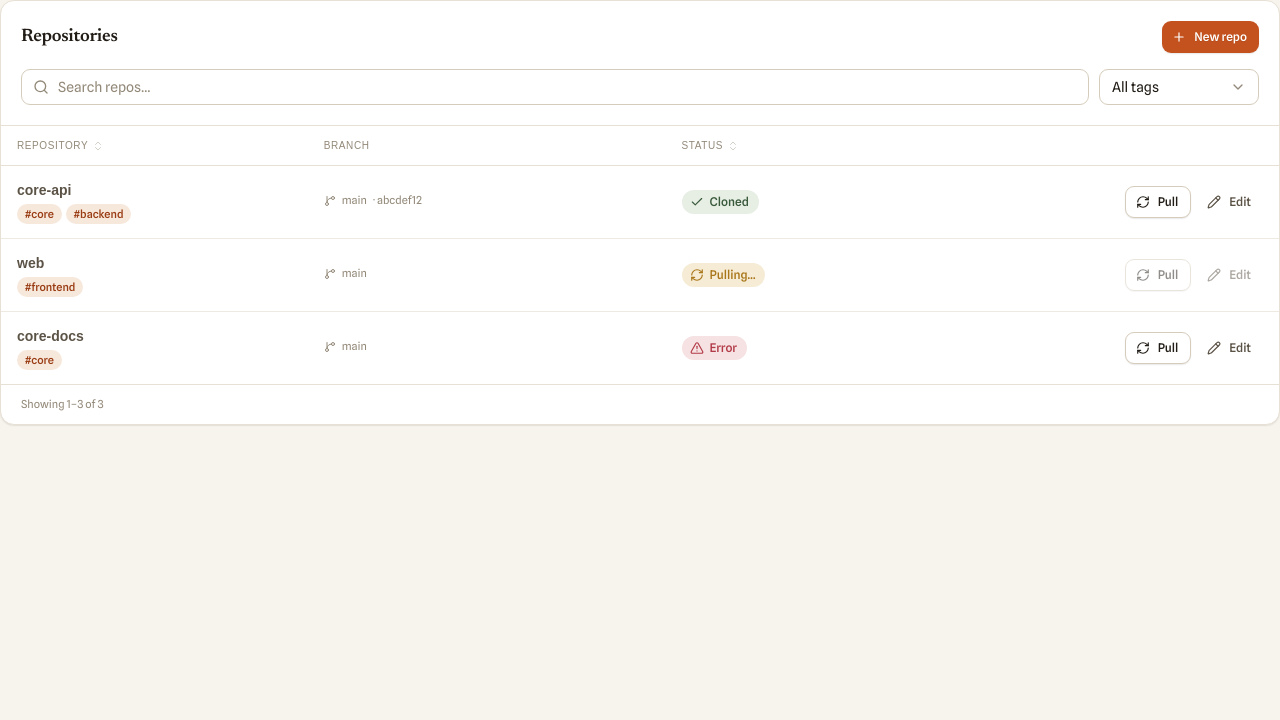
Test case: WorkspaceClient filter island (Flow E) › Delete is inside the edit form with two-step confirmation
Step 1. Click the button "Edit" in the row of "core-api" → (1230, 202), box [1197,186,1263,218]
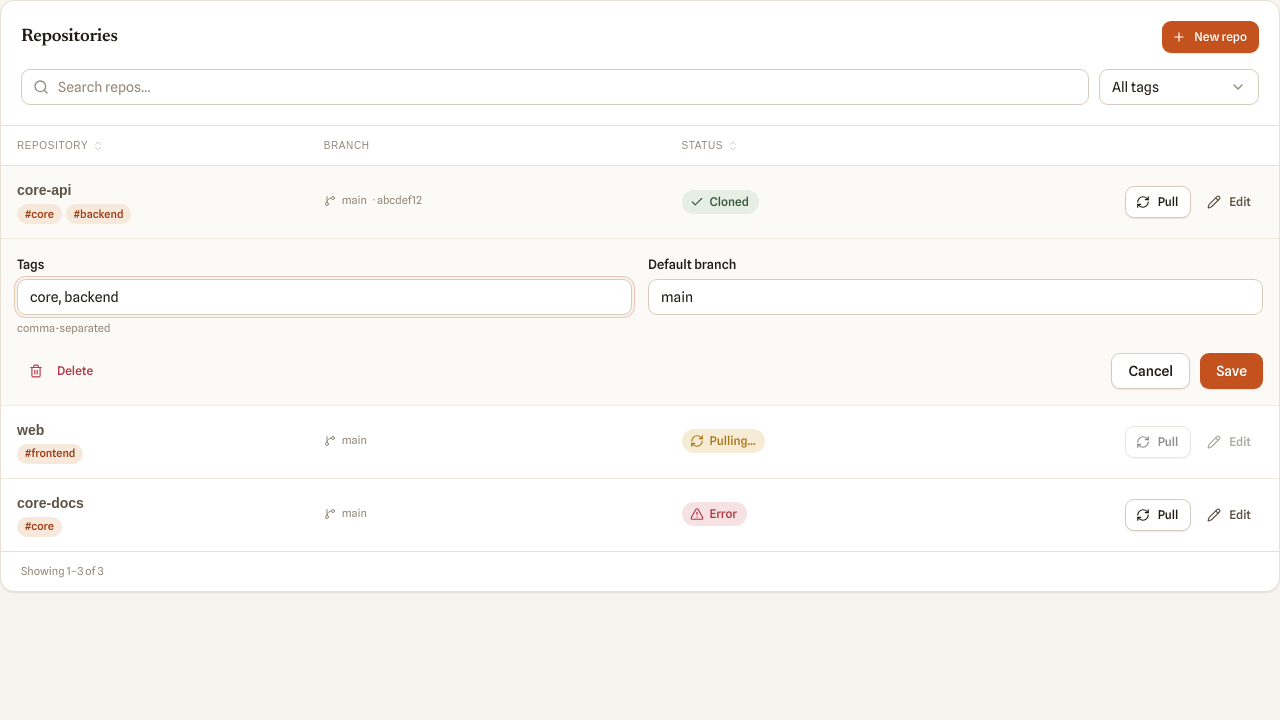
Check: the button "Delete" is shown
Step 2. Click the button "Delete" → (61, 371), box [17,355,105,387]
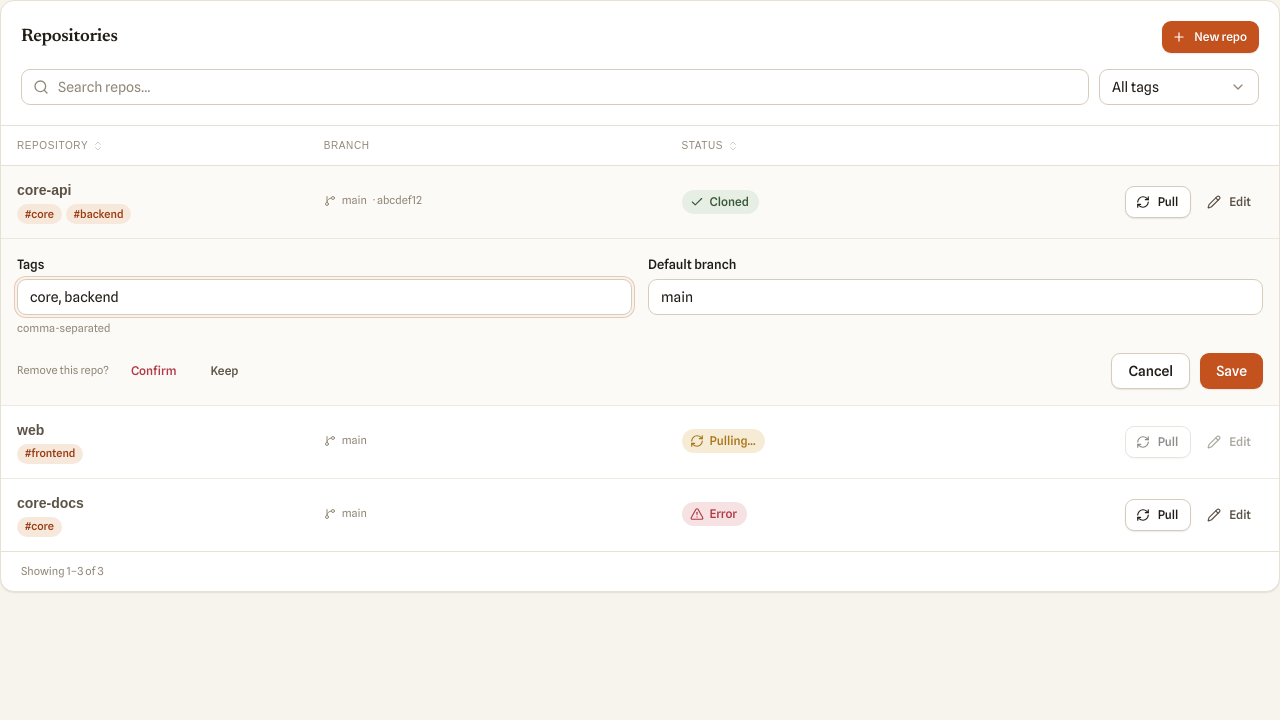
Check: the text "Remove this repo?" is shown, box [17,363,109,378]
Check: the button "Confirm" is shown, box [119,355,188,387]
Check: the button "Keep" is shown, box [198,355,250,387]
